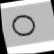no answer: (9, 10, 39, 39)
